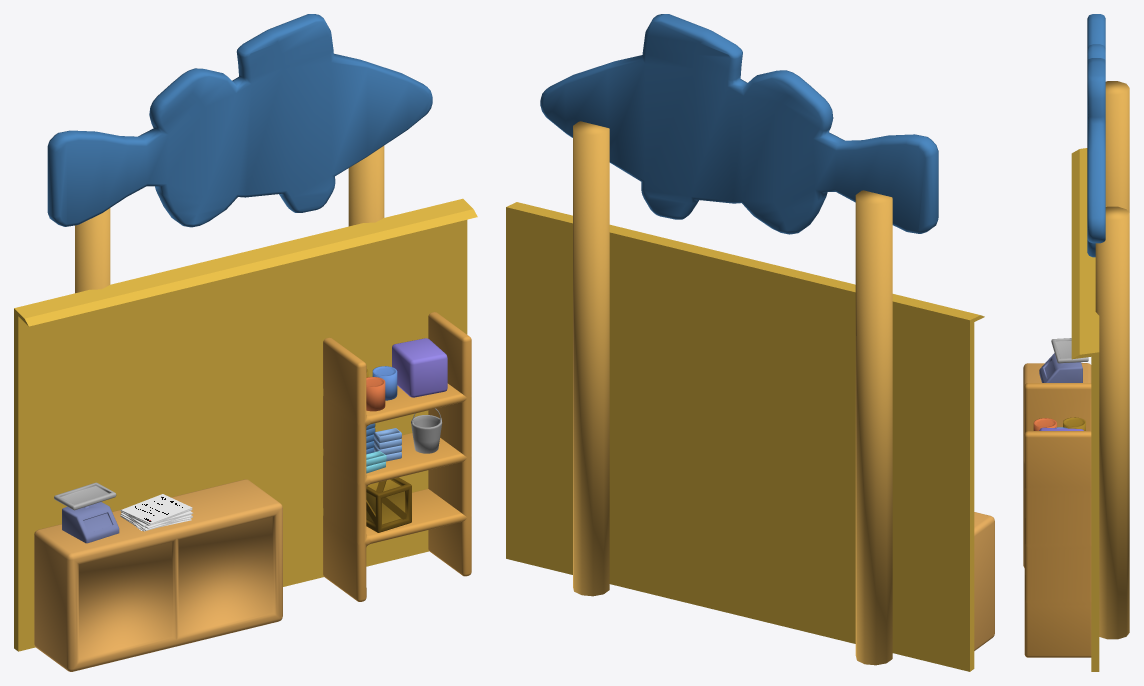
Rendered from Collection_DeriereFishStall.fbx.
The picture shows the model from 3 angles, left to right: view 1: azimuth 30°, elevation 25°; view 2: azimuth 150°, elevation 25°; view 3: azimuth 270°, elevation 25°; orthographic projection. The views are drawn at different scales.
Parts seen in each view (by area): view 1: DeriereFishStall_LOD0; view 2: DeriereFishStall_LOD0; view 3: DeriereFishStall_LOD0.
Boxes of the visible parts, bbox=[...] form: DeriereFishStall_LOD0: bbox=[14, 14, 477, 671]; DeriereFishStall_LOD0: bbox=[506, 14, 994, 671]; DeriereFishStall_LOD0: bbox=[1023, 14, 1129, 671].
Bounding box in the file's own units: 841 × 1008 × 184.
